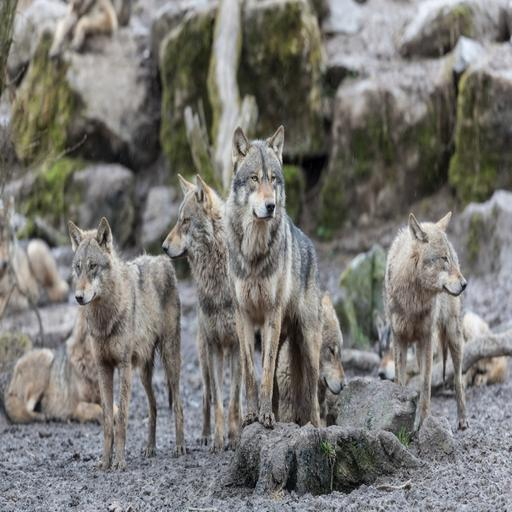Wolf: (165, 172, 309, 463), (220, 130, 332, 456), (64, 217, 192, 473), (5, 289, 161, 429), (386, 208, 473, 430), (372, 276, 506, 392), (258, 287, 349, 428)
